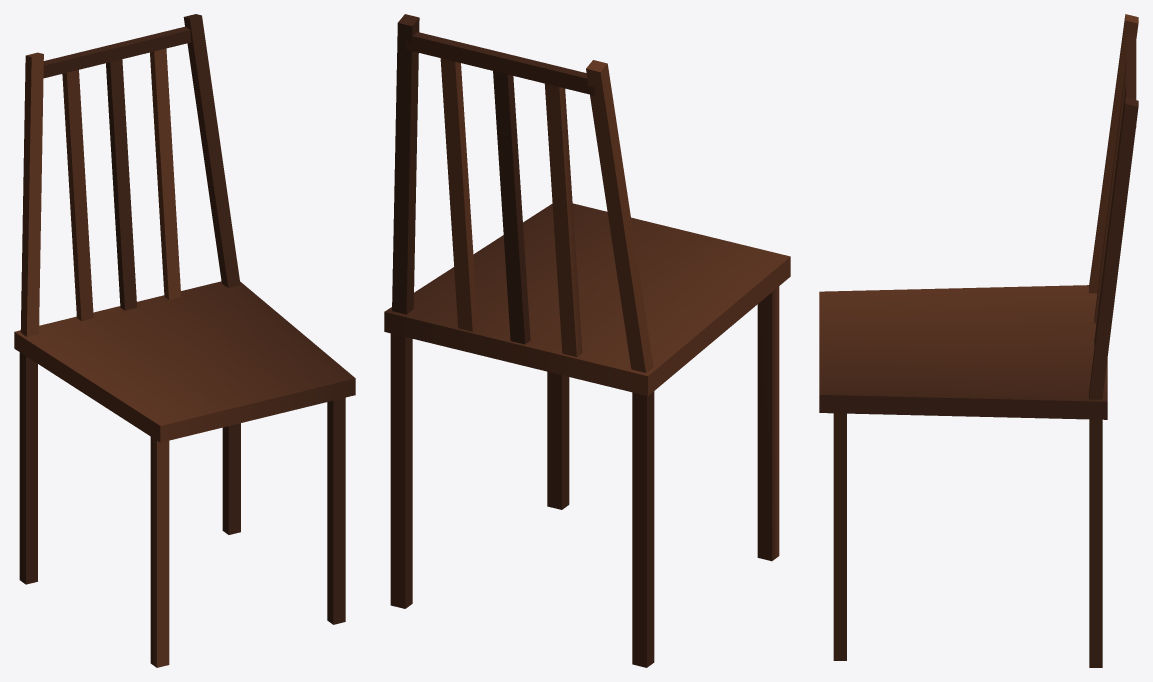
The model's file is SM_chair.FBX.
3 renders of one model, left to right at view 1: azimuth 30°, elevation 25°; view 2: azimuth 150°, elevation 25°; view 3: azimuth 270°, elevation 25°, orthographic. The views are drawn at different scales.
Parts seen in each view (by area): view 1: chair; view 2: chair; view 3: chair.
Part boxes in pixels (x1,y1,x2,y2): chair: [14, 14, 355, 667]; chair: [384, 14, 790, 667]; chair: [819, 14, 1138, 667].
Bounding box in the file's own units: 41.57 × 91.38 × 47.85.
